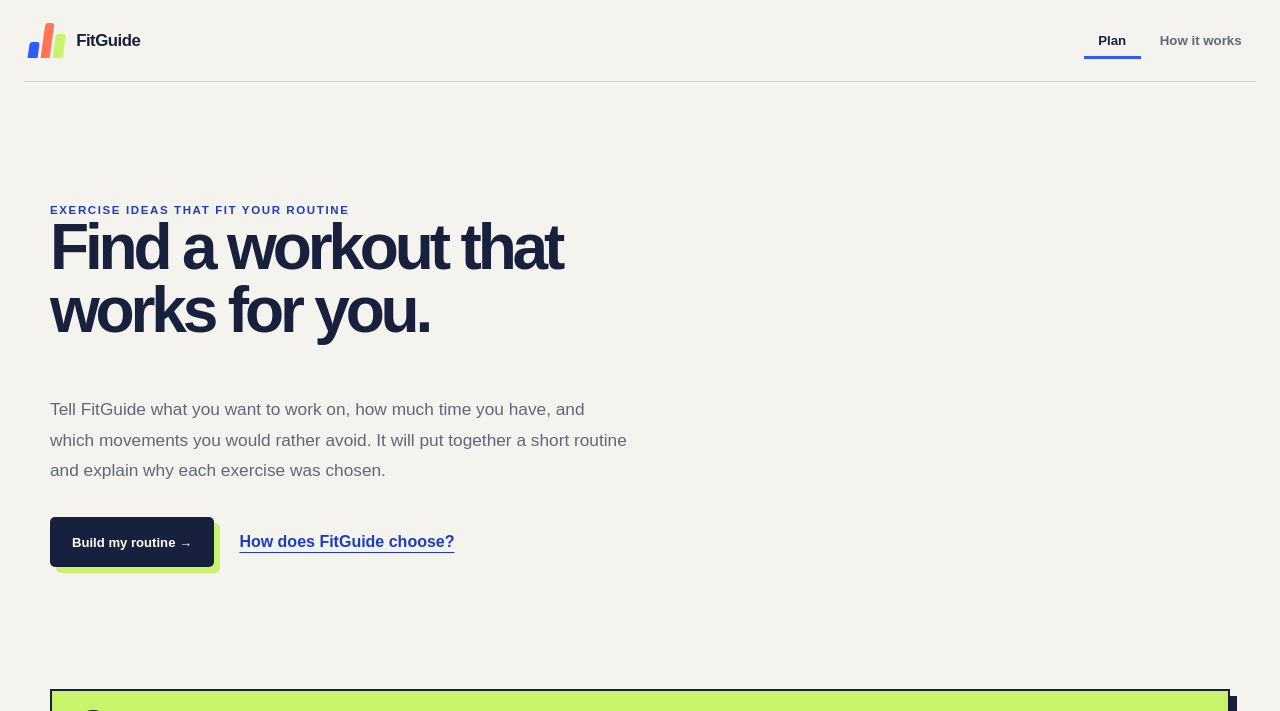
Test: FitGuide application › opens the questionnaire with accessible required controls
The image size is (1280, 711).
Click the button "Build my routine →": (132, 542) [50, 517, 214, 567]
(page scrolled)
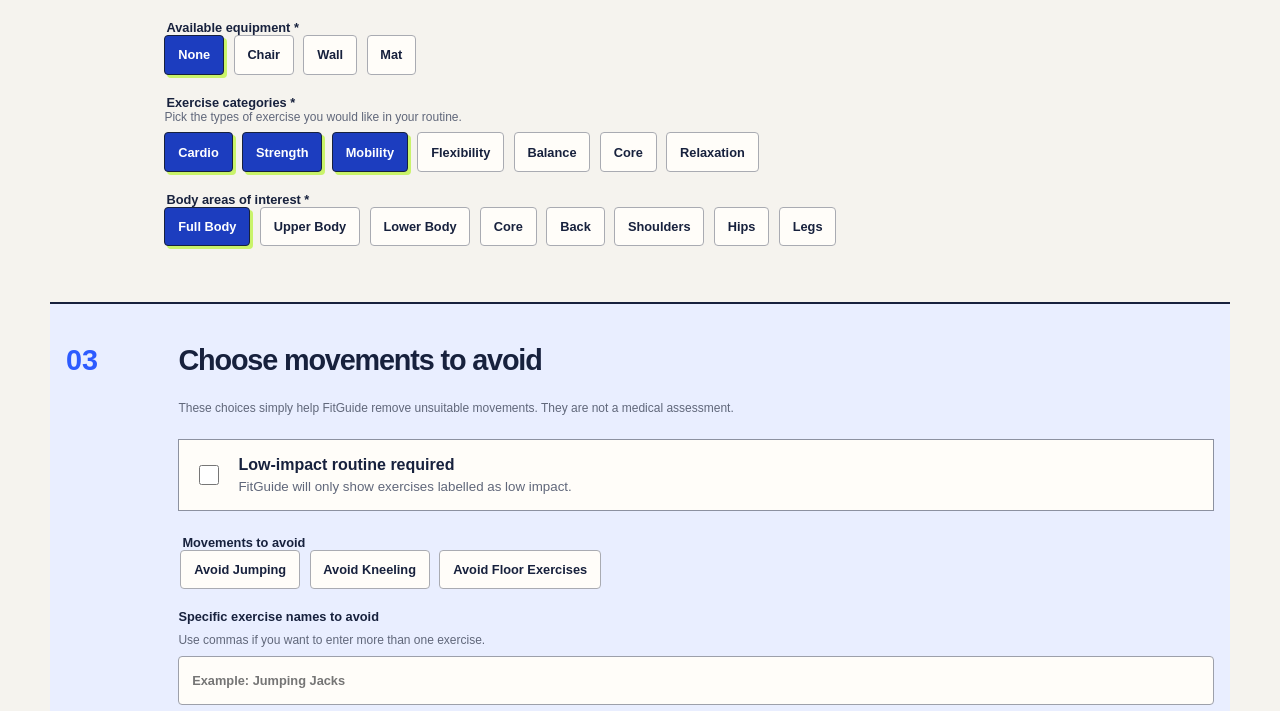
Result: the element "Available equipment * None Chair Wall Mat" is shown at [164, 20, 416, 75]
Result: the heading "Choose movements to avoid" is shown at [178, 344, 542, 376]
